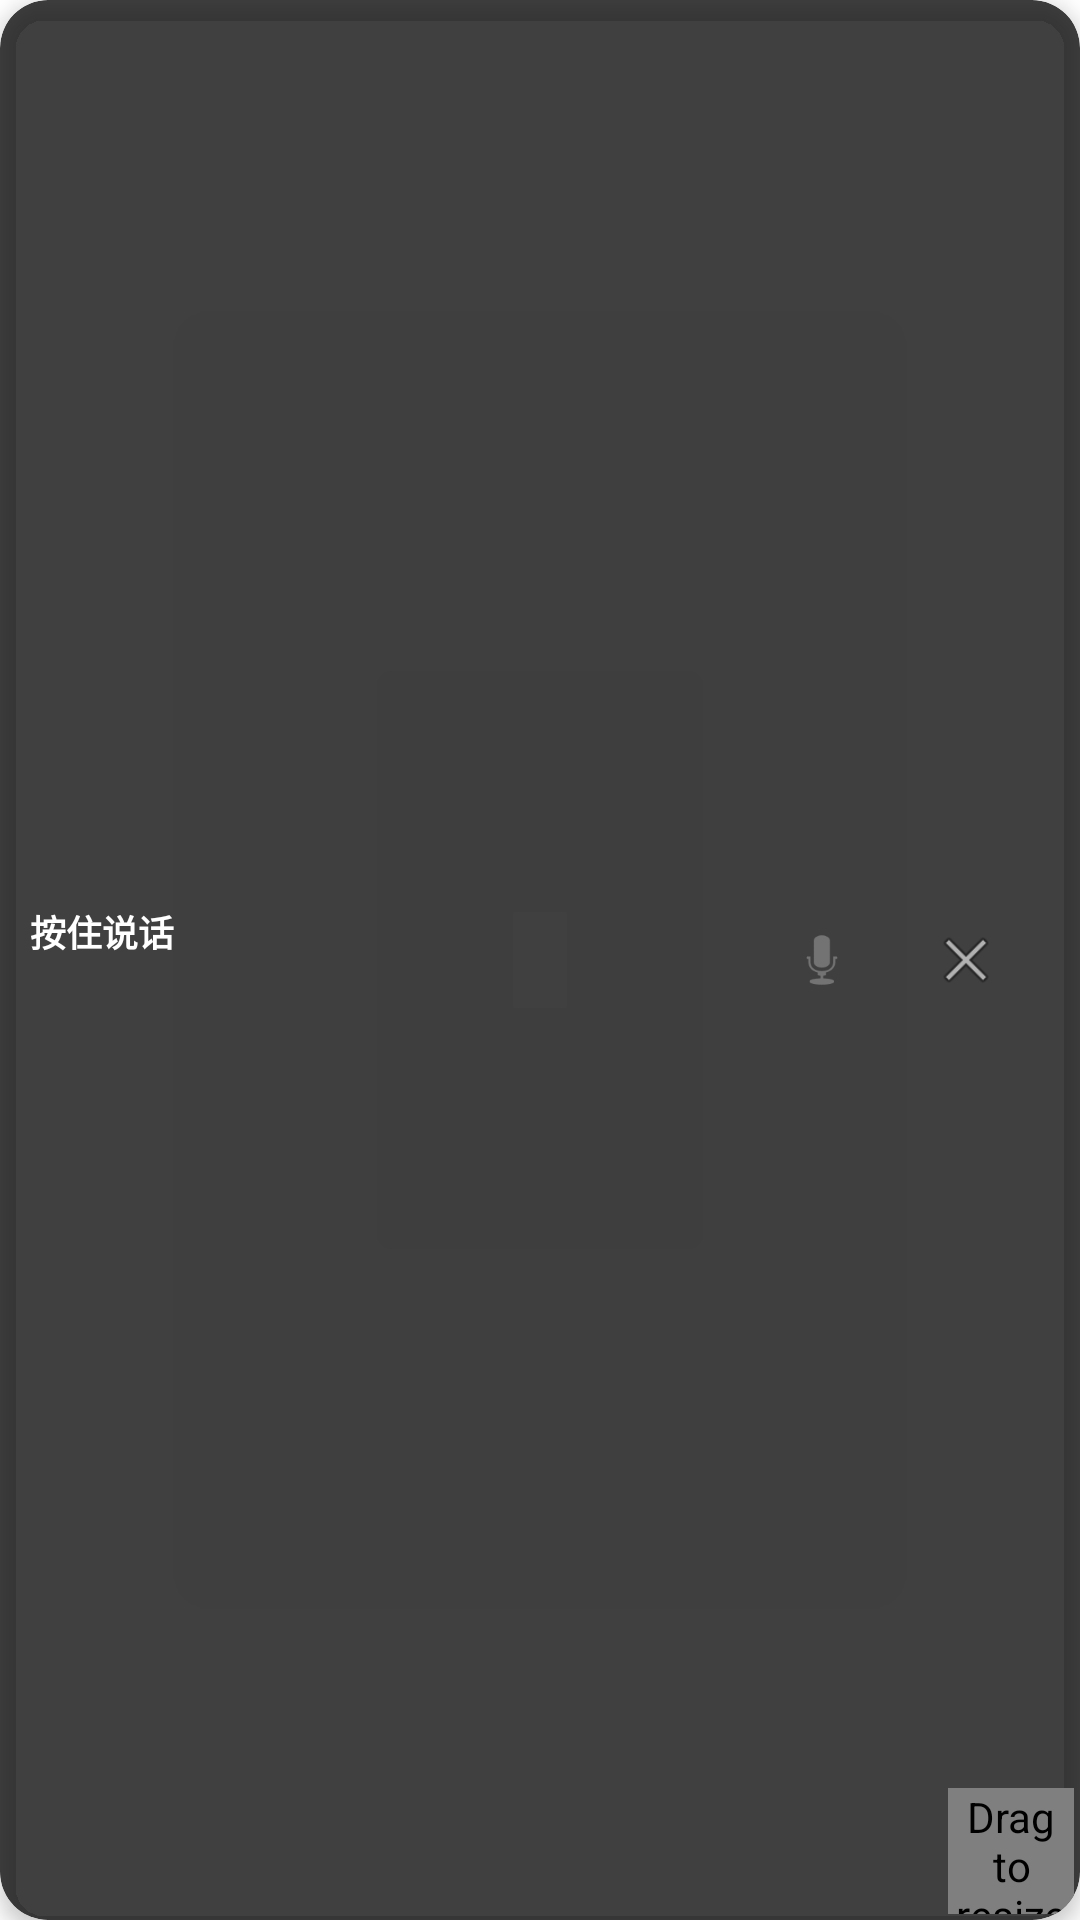

Icons on this 1080px×1920px Android screen, each with its box as rect(x1, y1, x2, y2):
停止替身: rect(945, 939, 987, 981)
按住语音: rect(807, 935, 837, 985)
